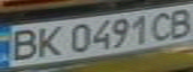0: (66, 20, 93, 54)
1: (127, 11, 154, 45)
4: (90, 17, 115, 52)
9: (109, 16, 133, 48)
B: (0, 26, 45, 62), (163, 5, 193, 39)
C: (148, 9, 178, 42)
K: (30, 24, 69, 58)
